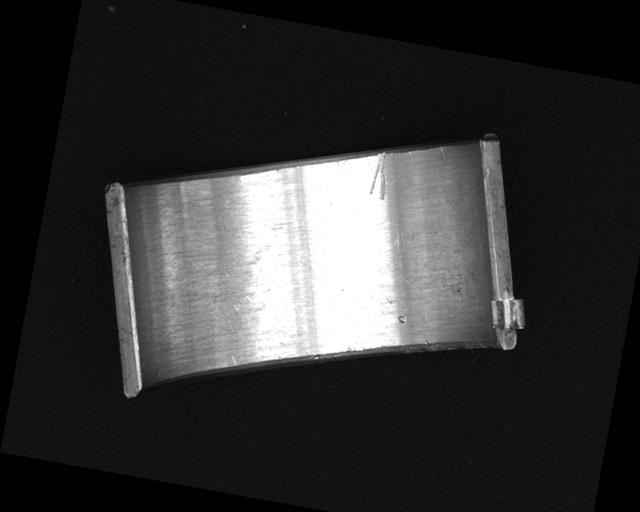bruise: (396, 313, 409, 326)
nick: (365, 150, 394, 200), (437, 144, 449, 159)
